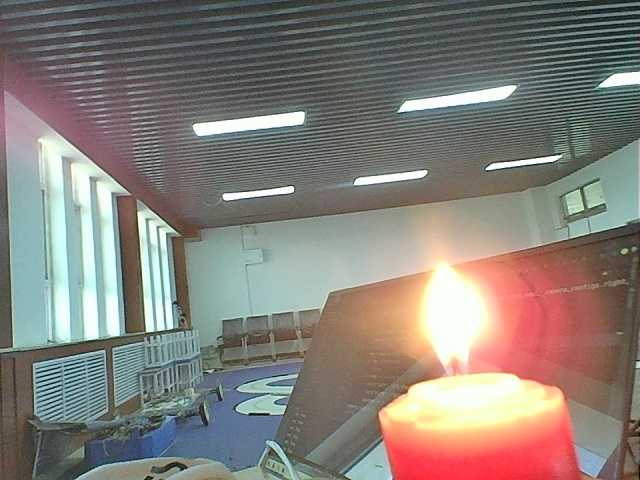candle: (371, 377, 594, 480)
fire: (419, 256, 495, 389)
